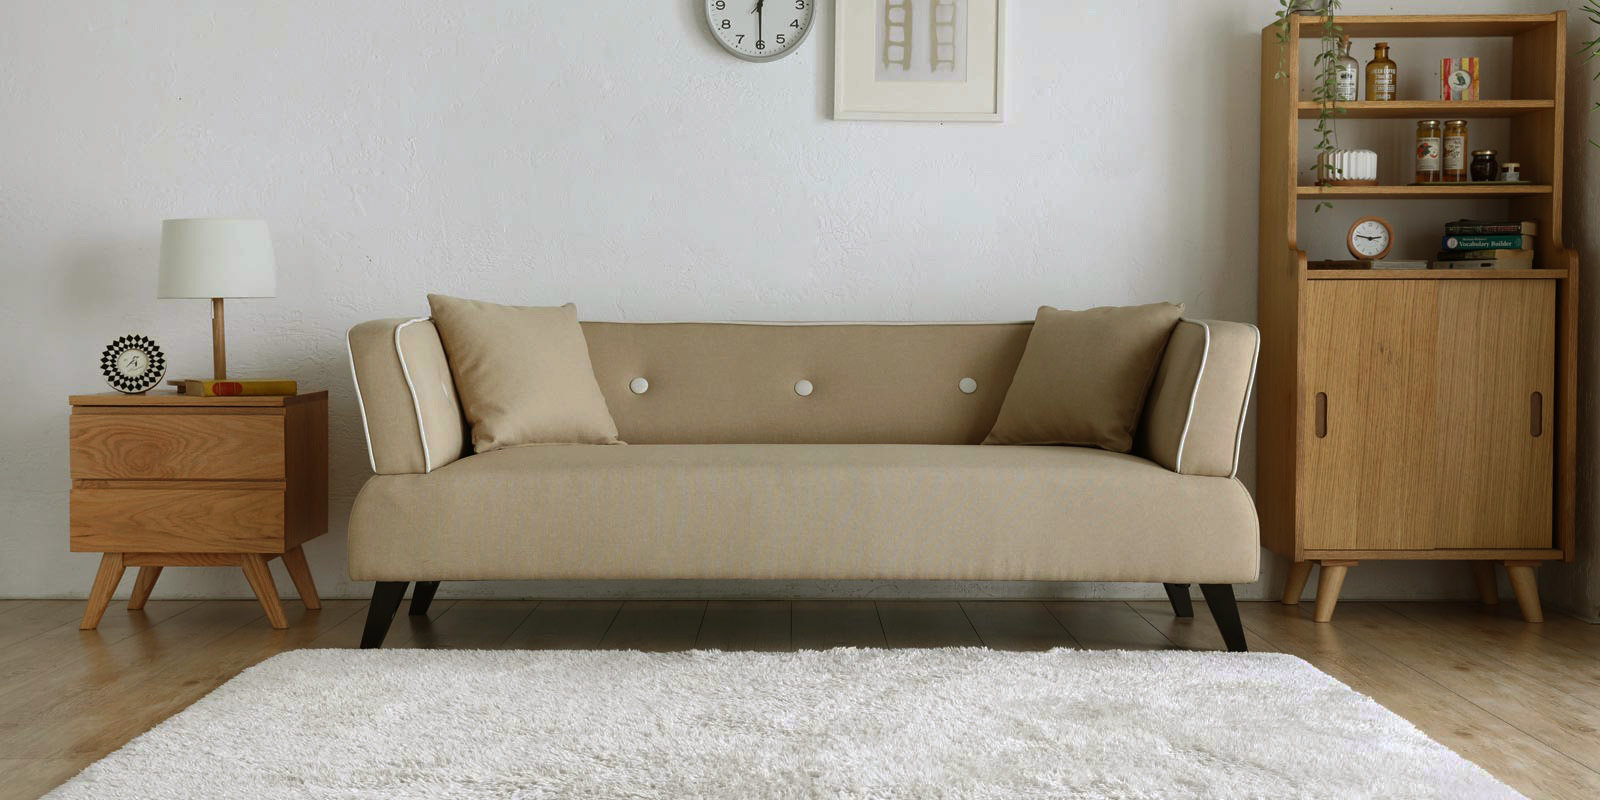Dime Three Seater Sofa in Beige Colour by Zofa: (334, 281, 1286, 669)
